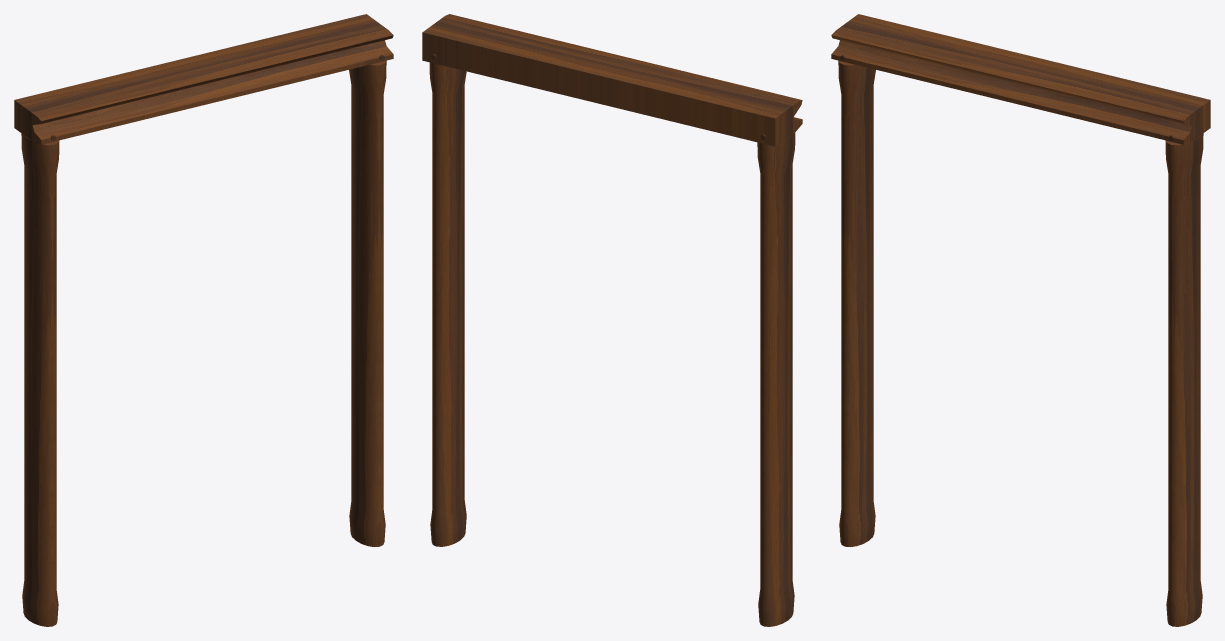
The model's file is CM_R06_KitchenFrame.fbx.
3 renders of one model, left to right at view 1: azimuth 30°, elevation 25°; view 2: azimuth 150°, elevation 25°; view 3: azimuth 330°, elevation 25°, orthographic.
Visible parts, largest first — view 1: CM_R06_KitchenFrame; view 2: CM_R06_KitchenFrame; view 3: CM_R06_KitchenFrame.
Boxes of the visible parts, left/top/right/bottom form: CM_R06_KitchenFrame: left=14, top=14, right=393, bottom=626; CM_R06_KitchenFrame: left=422, top=14, right=802, bottom=626; CM_R06_KitchenFrame: left=831, top=14, right=1210, bottom=626.
Size of the model in its own units: 2.11 by 2.91 by 0.296.
